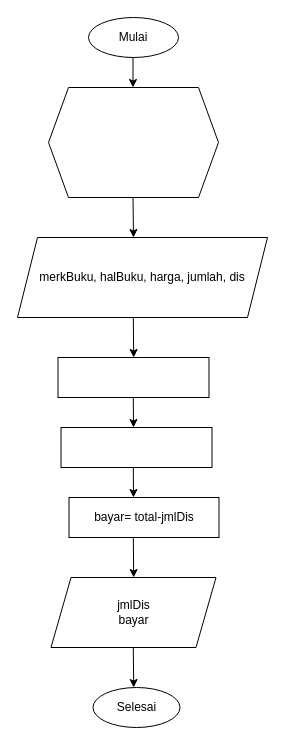
Some shapes in this 285 by 745 pixel diagram are drawn without their labels. The shapes that lost their labels are listed below. From the top down, each one's box as (x1, y1, x2, y2) in pixels, then its label:
(48, 86, 218, 198): int harga, jumlah, halBuku double dis, total, bayar, jmlDis String merkBuku
(57, 356, 209, 398): total= harga*jumlah
(60, 426, 212, 468): jmlDis= total*dis
